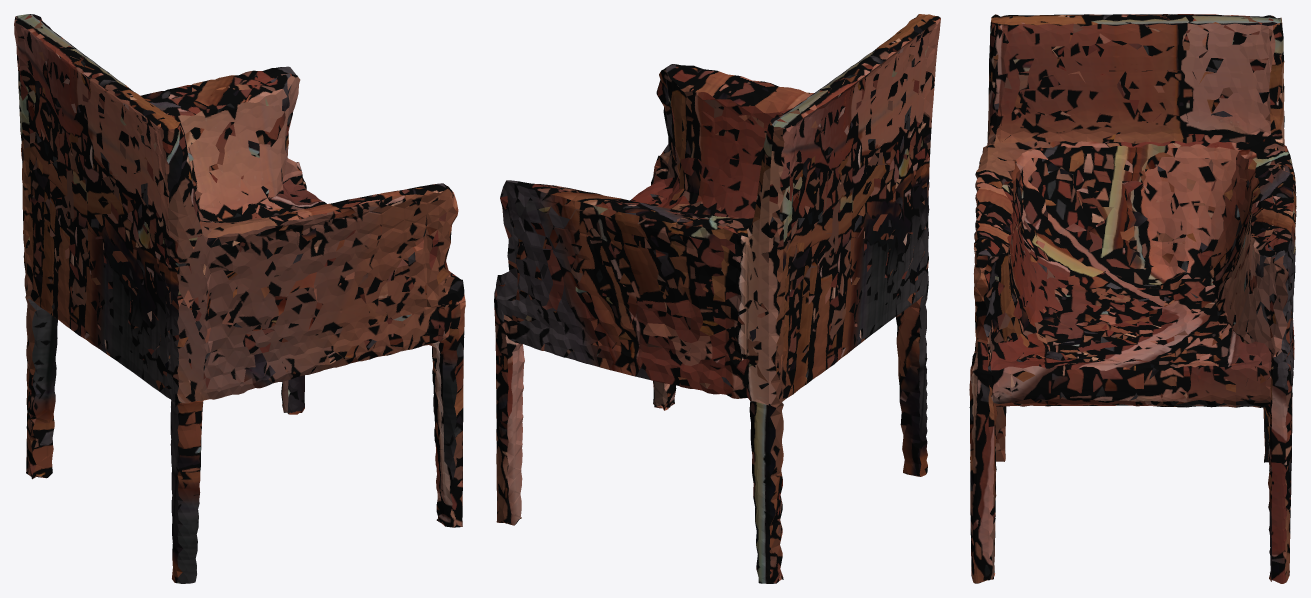
Rendered from elem_94_115_131_213_0_6.obj.
3 renders of one model, left to right at view 1: azimuth 30°, elevation 25°; view 2: azimuth 150°, elevation 25°; view 3: azimuth 270°, elevation 25°, orthographic. The views are drawn at different scales.
Size of the model in its own units: 0.4645 by 0.6973 by 0.4713.
1 material, 1 textured.
